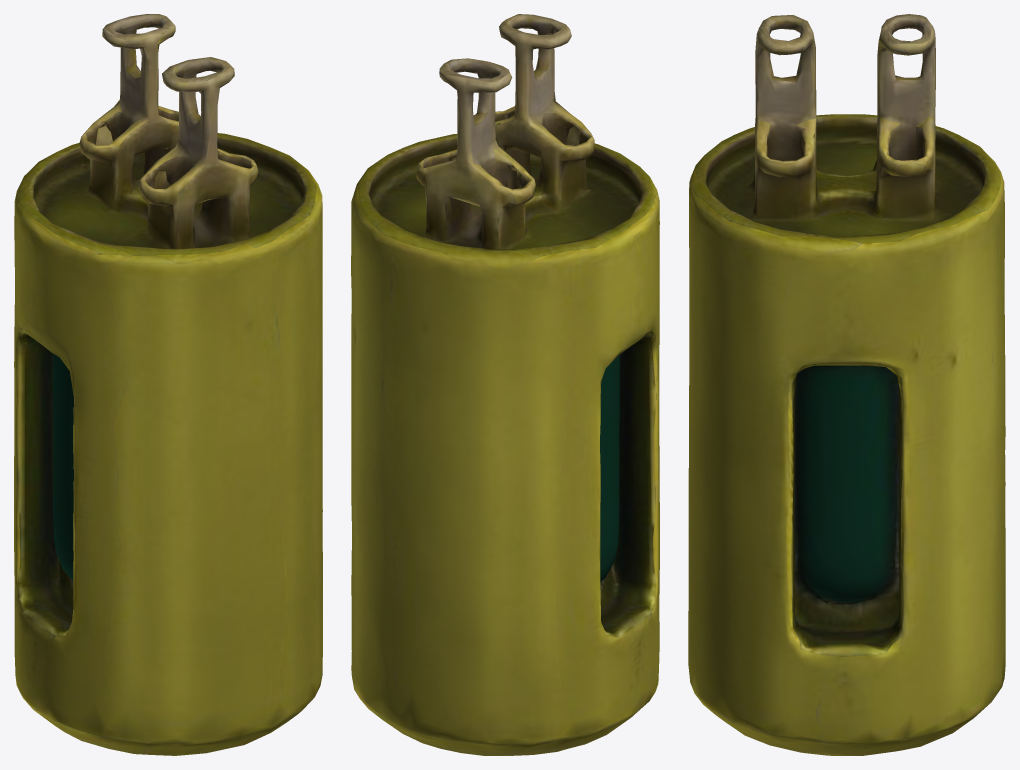
File: rf_glyph_cell.glb
The picture shows the model from 3 angles, left to right: view 1: azimuth 30°, elevation 25°; view 2: azimuth 150°, elevation 25°; view 3: azimuth 270°, elevation 25°; orthographic projection. The views are drawn at different scales.
Visible parts, largest first — view 1: geometry_0; view 2: geometry_0; view 3: geometry_0.
Boxes of the visible parts, x1,y1,x2,y2 form: geometry_0: [14, 14, 322, 755]; geometry_0: [351, 14, 659, 755]; geometry_0: [688, 14, 1005, 755].
Size of the model in its own units: 0.4245 by 1 by 0.4252.
1 material, 1 textured.
